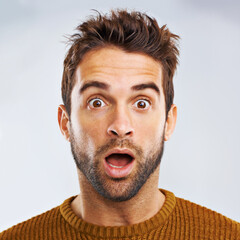young: (52, 10, 182, 200)
